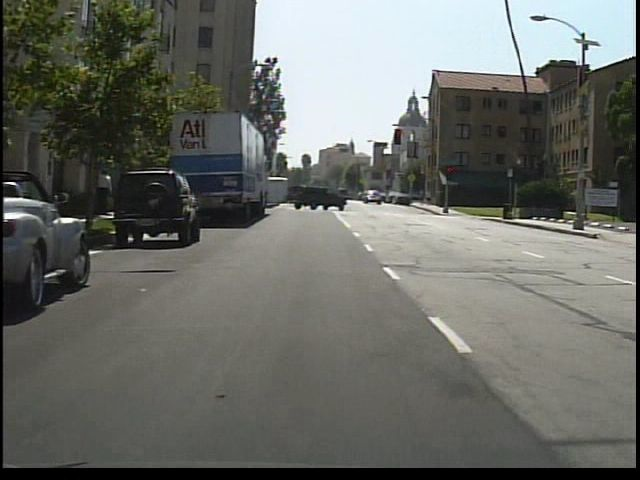person: (100, 165, 117, 216), (417, 188, 427, 210)
